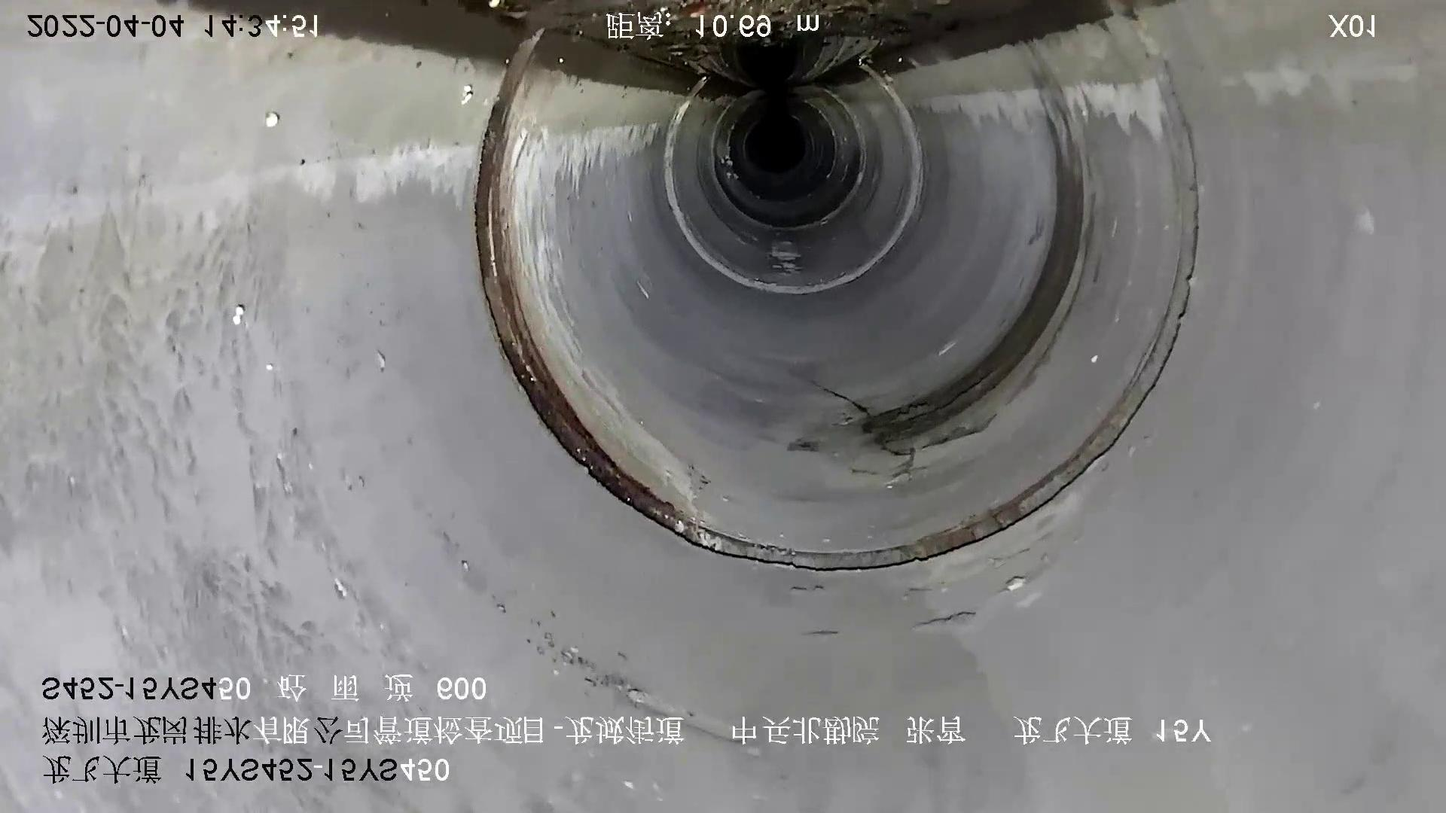CJ: (588, 1, 958, 72)
CKTJ: (473, 7, 1201, 572), (663, 58, 925, 294)
